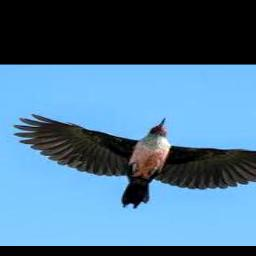Woodpecker: (14, 114, 256, 208)
